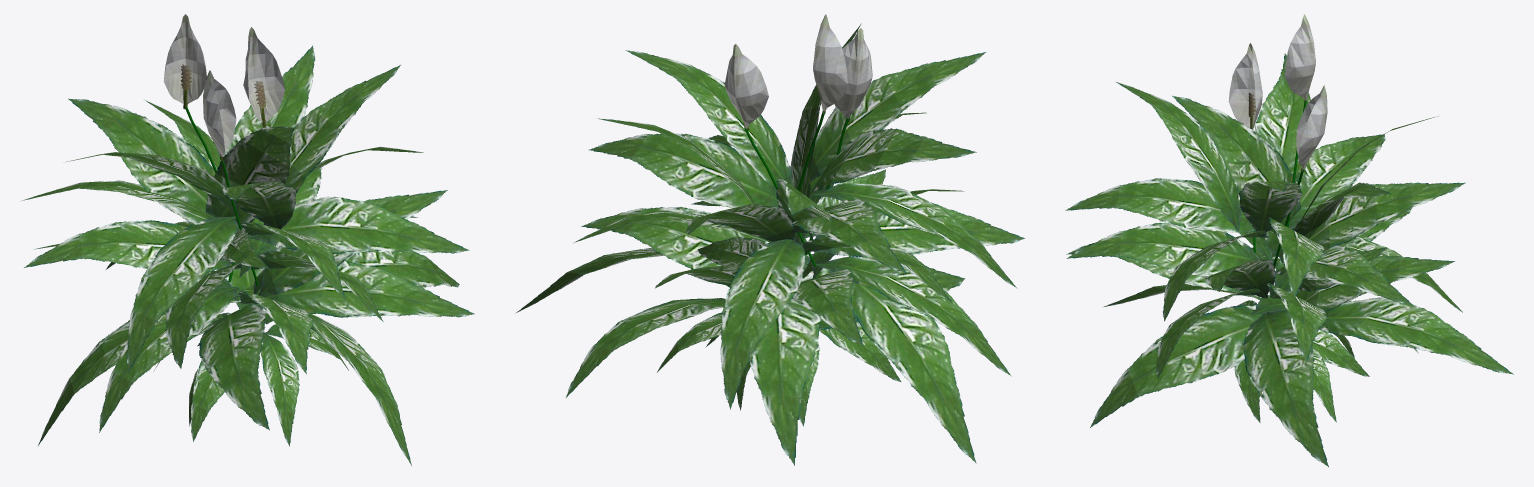
The model's file is Spathaphylum.dae.
3 renders of one model, left to right at view 1: azimuth 30°, elevation 25°; view 2: azimuth 150°, elevation 25°; view 3: azimuth 270°, elevation 25°, orthographic. The views are drawn at different scales.
Visible parts, largest first — view 1: spath_leaf (×28), spath_flower_half (×3), spath_flower_half12 (×3); view 2: spath_leaf (×27), spath_flower_half12 (×3), spath_flower_half; view 3: spath_leaf (×27), spath_flower_half (×2), spath_flower_half12.
Boxes of the visible parts, bbox=[...] form: spath_leaf (×28): bbox=[20, 45, 474, 465]; spath_flower_half (×3): bbox=[185, 14, 285, 156]; spath_flower_half12 (×3): bbox=[163, 14, 262, 158]; spath_leaf (×27): bbox=[515, 23, 1024, 465]; spath_flower_half12 (×3): bbox=[734, 14, 872, 129]; spath_flower_half: bbox=[834, 28, 860, 119]; spath_leaf (×27): bbox=[1065, 53, 1513, 467]; spath_flower_half (×2): bbox=[1285, 14, 1327, 169]; spath_flower_half12: bbox=[1228, 43, 1256, 127].
Size of the model in its own units: 33.27 by 32.48 by 29.06.
5 materials, 4 textured.
